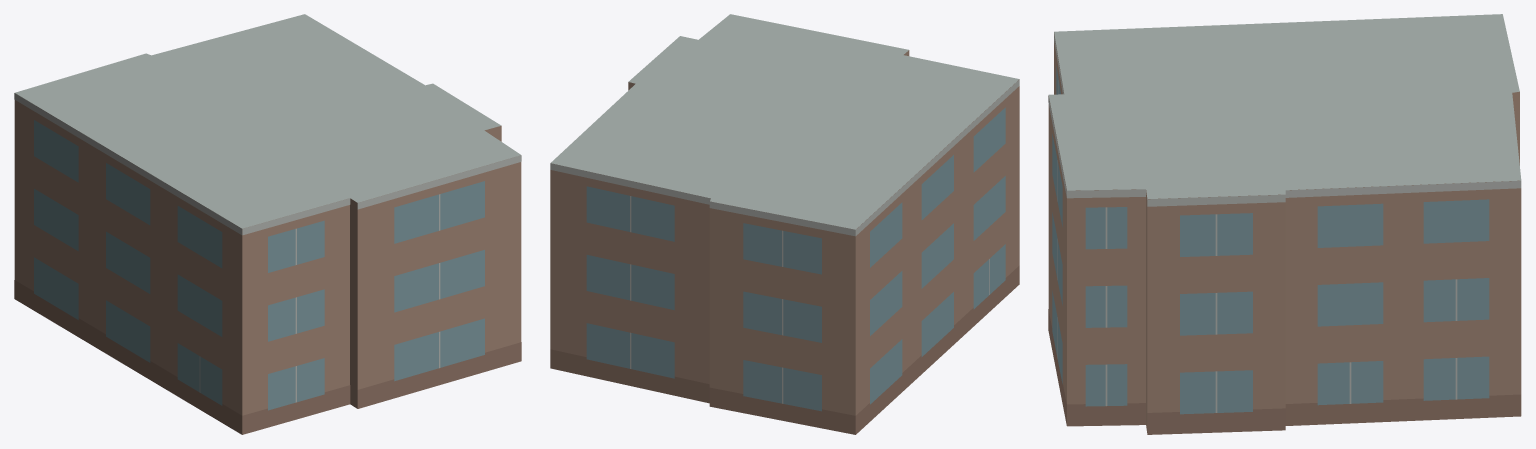
Rendered from survey-upis-32868809.glb.
3 views of the same model, side by side, from view 1: azimuth 30°, elevation 25°; view 2: azimuth 150°, elevation 25°; view 3: azimuth 270°, elevation 25° (orthographic). The views are drawn at different scales.
Parts seen in each view (by area): view 1: survey-upis-32868809.tmp; view 2: survey-upis-32868809.tmp; view 3: survey-upis-32868809.tmp.
Boxes of the visible parts, x1,y1,x2,y2 form: survey-upis-32868809.tmp: (14, 14, 521, 434); survey-upis-32868809.tmp: (550, 14, 1019, 434); survey-upis-32868809.tmp: (1048, 14, 1521, 434).
Size of the model in its own units: 12.64 by 7.5 by 13.64.
